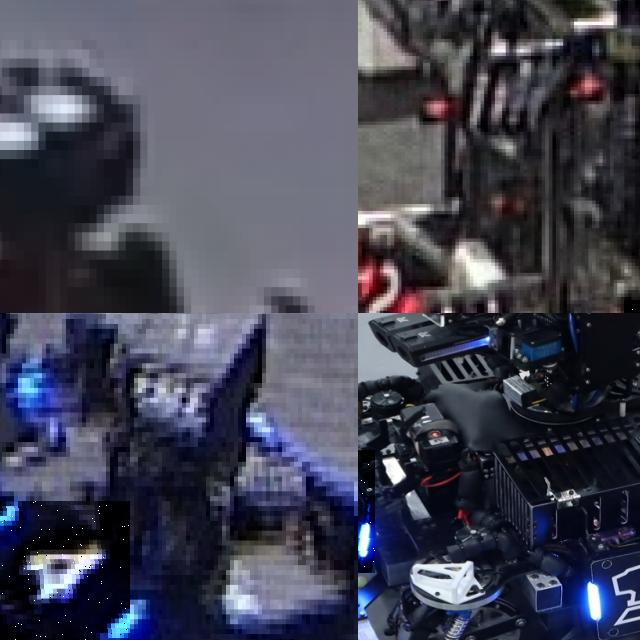Bs: (583, 538, 640, 640), (358, 450, 375, 573)
R2: (358, 252, 419, 313)
R4: (0, 501, 130, 640)
